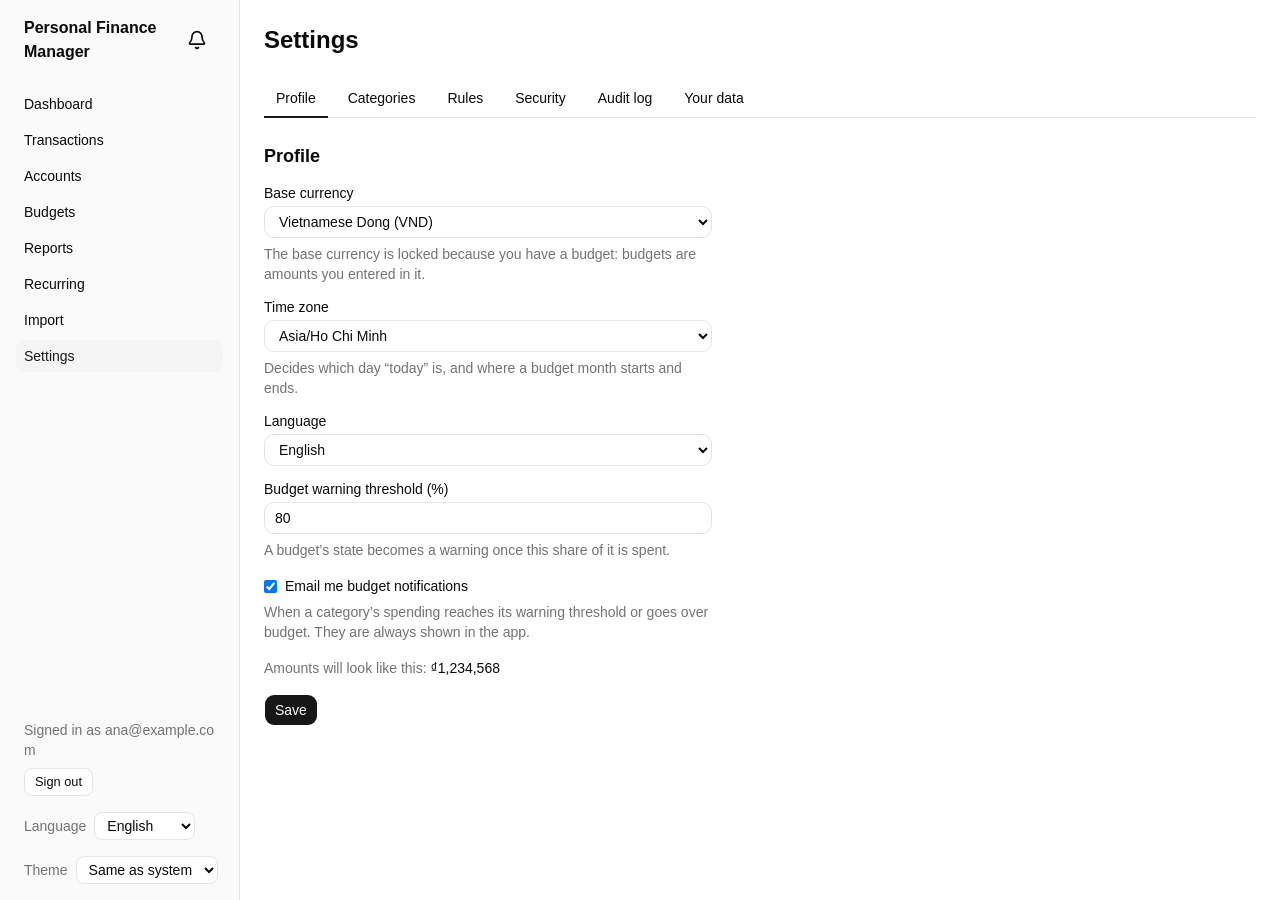
Test: profile settings › lock the base currency once the user has a budget, say why, and still save the other settings
Expected: the dropdown labelled "Base currency" is disabled, [264,206,712,238]
Expected: the dropdown labelled "Base currency" shows "Vietnamese Dong (VND)", [264,206,712,238]
Select "Europe/Berlin" in the dropdown labelled "Time zone" at coordinates (488, 336), box [264,320,712,352]
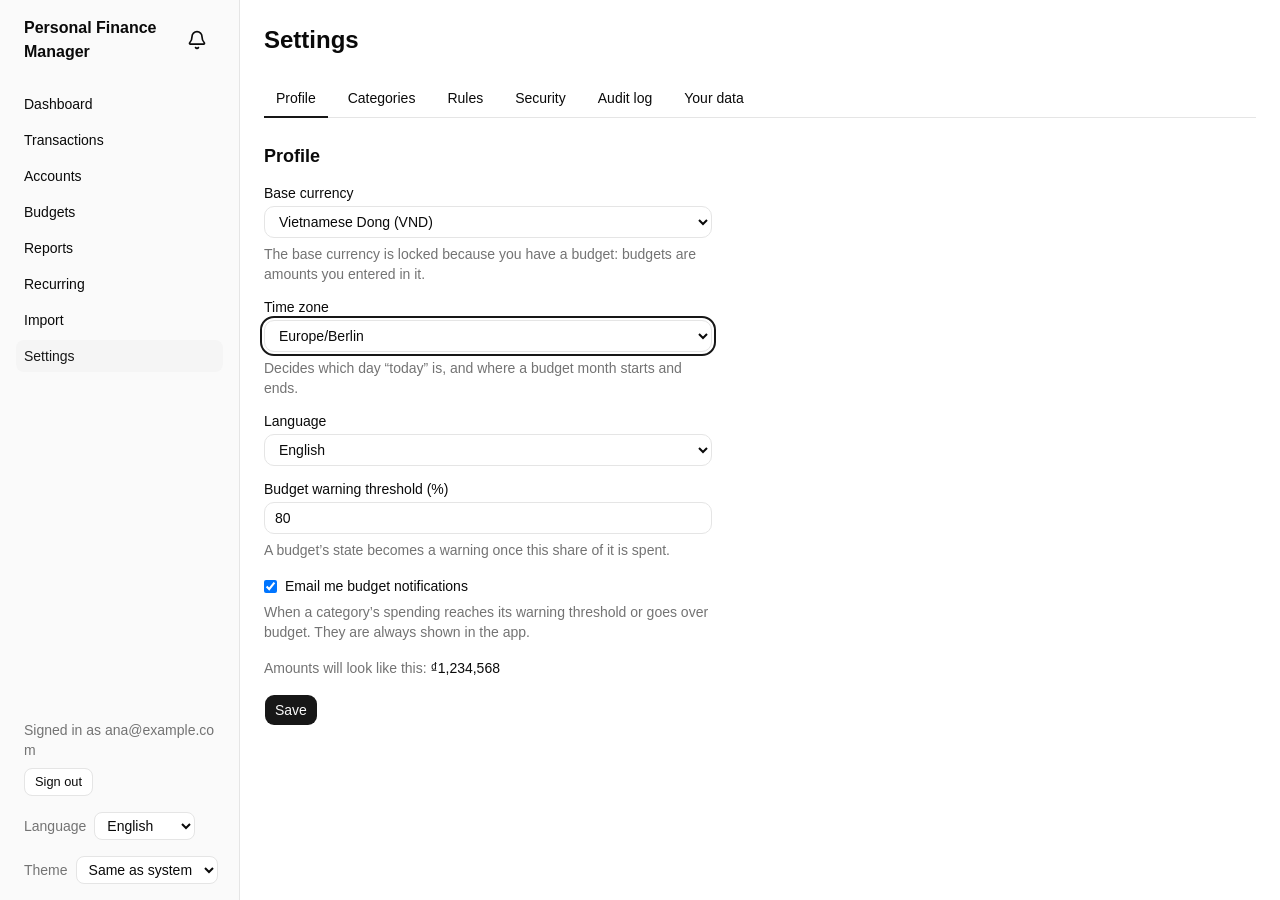
Click the button "Save".
click(291, 710)  # box [264,694,318,726]
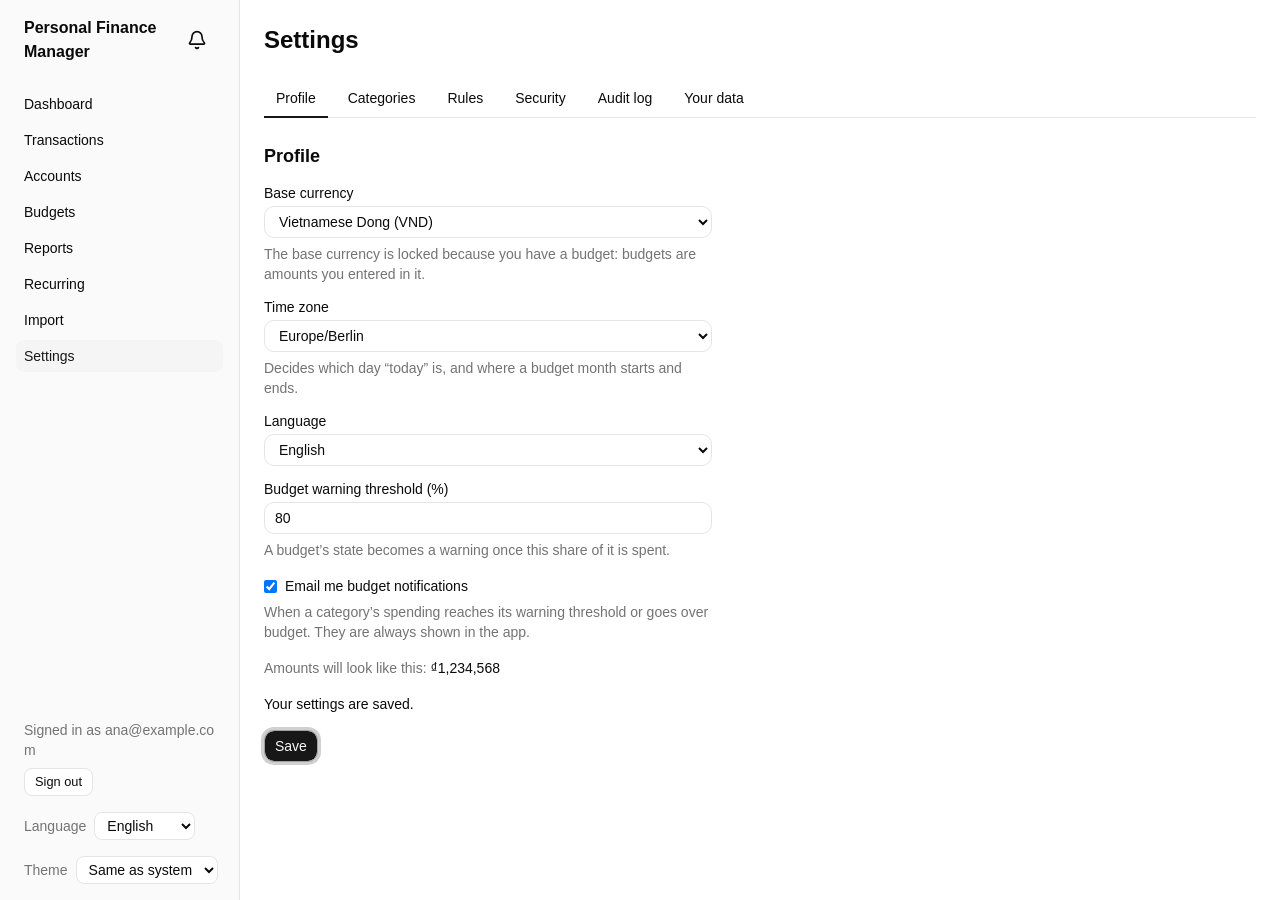
Expected: the message reads "Your settings are saved.", [264,696,414,712]
